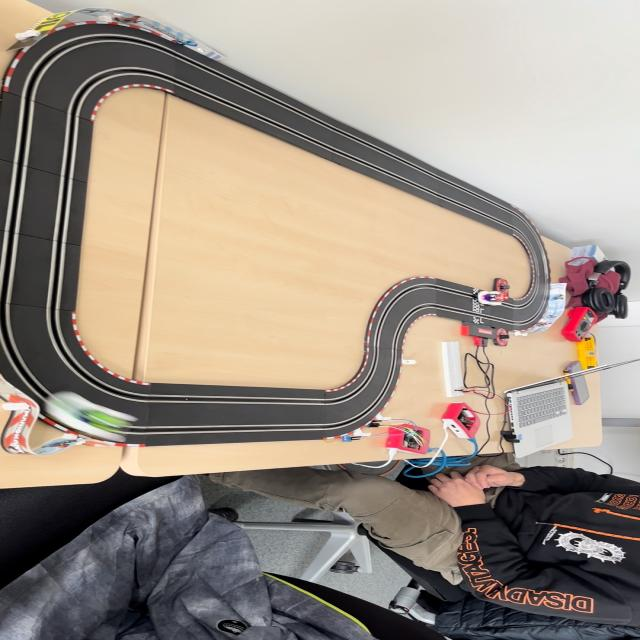mario: (474, 287, 516, 307)
yoshi: (40, 386, 150, 451)
